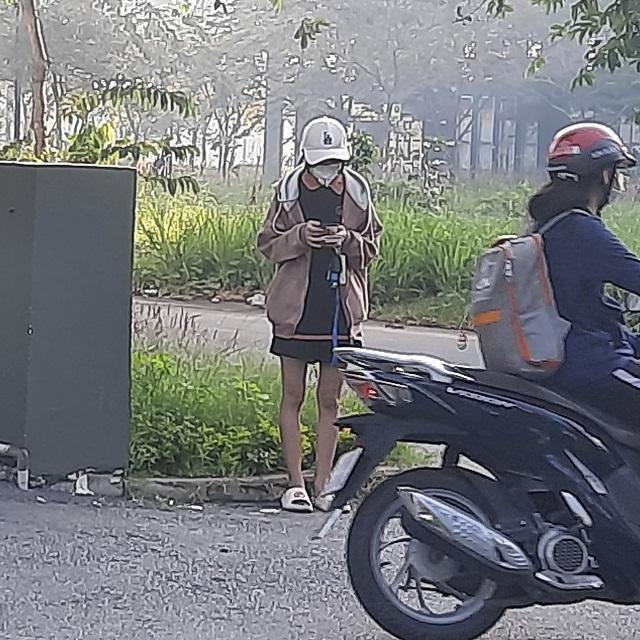Helmet: (548, 117, 632, 199)
